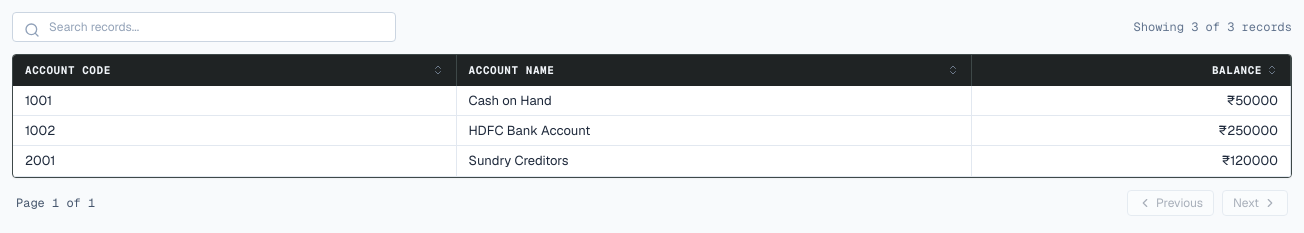
Test: DataTable Component › renders custom empty message when no rows match
The width and height of the screenshot is (1304, 233).
Type "NonExistent" into the field with placeholder "Search records...". click: (204, 27)
box: [12, 12, 396, 42]
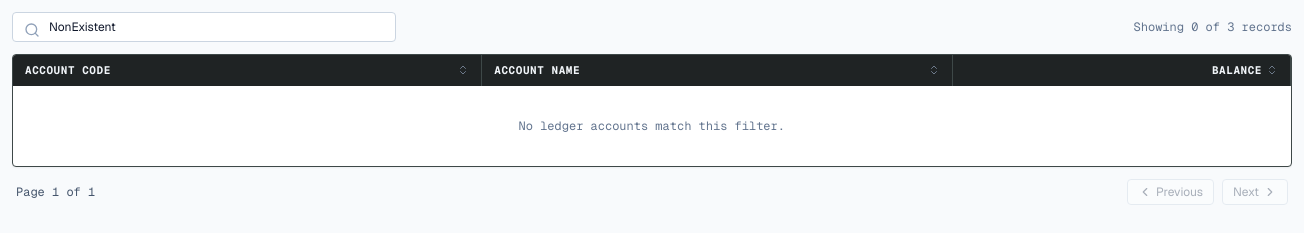
Result: the text "No ledger accounts match this filter." is shown at [13, 86, 1290, 166]
